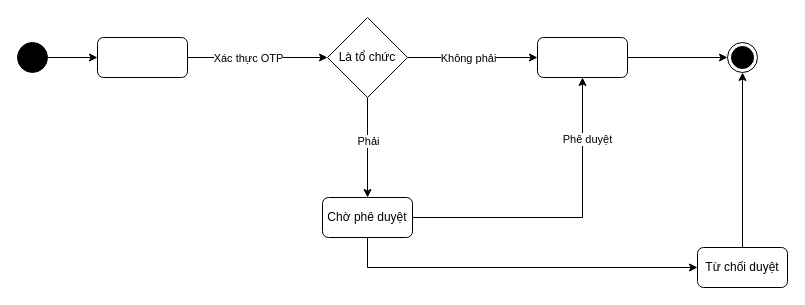
Some shapes in this 805 by 305 pixel diagram are drawn without their labels. The centre of each missing label's shape, as x and y in pixels:
"Chờ xác thực" belongs at point (142, 57).
"Hoạt động" belongs at point (582, 57).
